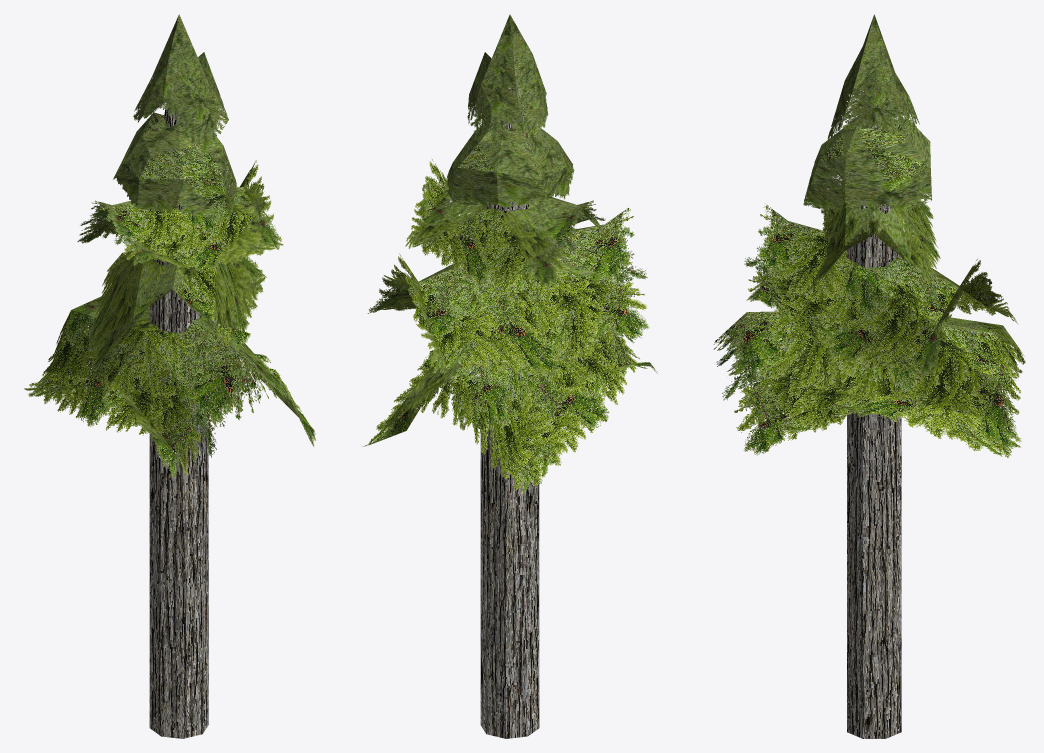
Rendered from pine.gltf.
The picture shows the model from 3 angles, left to right: view 1: azimuth 30°, elevation 25°; view 2: azimuth 150°, elevation 25°; view 3: azimuth 270°, elevation 25°; orthographic projection.
Visible parts, largest first — view 1: Tree; view 2: Tree; view 3: Tree.
Part boxes in pixels (left/top/right/bottom): Tree: left=24, top=14, right=315, bottom=738; Tree: left=362, top=14, right=657, bottom=738; Tree: left=713, top=14, right=1025, bottom=738.
Bounding box in the file's own units: 4.7 × 13.26 × 5.53.
Materials: 4 (4 with a texture image).
